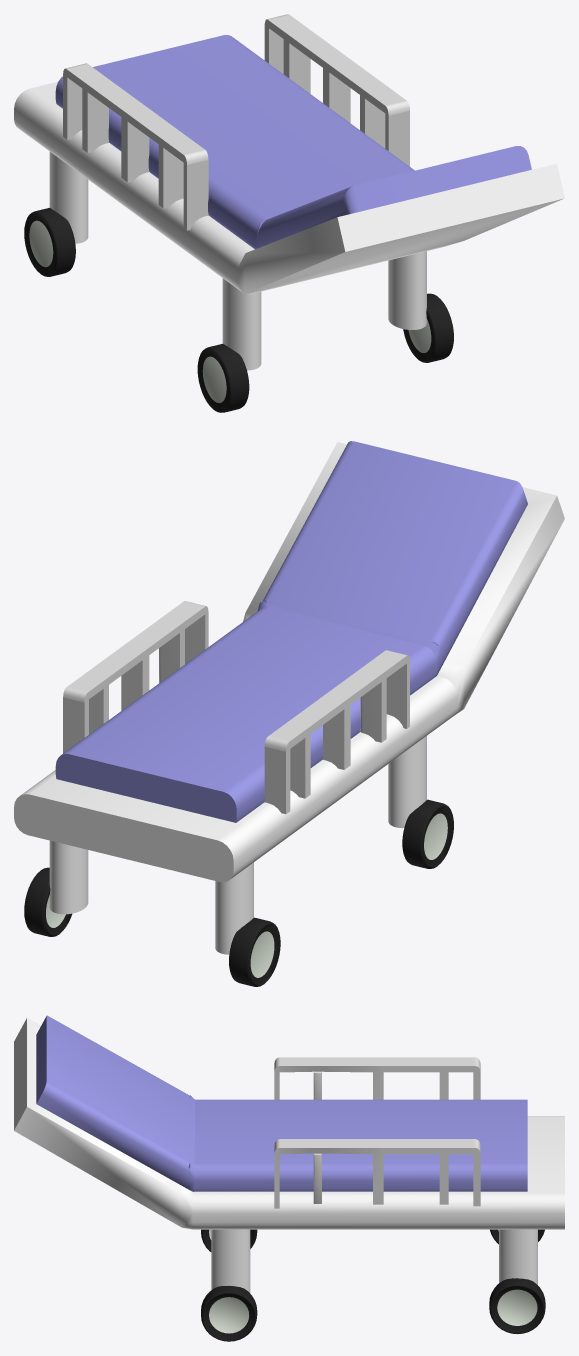
Rendered from Hospital_Bed.fbx.
The picture shows the model from 3 angles, top to bottom: view 1: azimuth 30°, elevation 25°; view 2: azimuth 150°, elevation 25°; view 3: azimuth 270°, elevation 25°; orthographic projection. The views are drawn at different scales.
Parts seen in each view (by area): view 1: Bed, BedFrame, Cube.001, Cube, Feet, Wheels; view 2: Bed, BedFrame, Cube.001, Cube, Feet, Wheels; view 3: Bed, BedFrame, Wheels, Cube, Cube.001, Feet.
Boxes of the visible parts, x1=… form: Bed: x1=55, y1=35, x2=531, y2=249; BedFrame: x1=14, y1=81, x2=564, y2=294; Cube.001: x1=63, y1=63, x2=208, y2=230; Cube: x1=264, y1=14, x2=409, y2=166; Feet: x1=49, y1=152, x2=426, y2=370; Wheels: x1=24, y1=207, x2=453, y2=412; Bed: x1=55, y1=441, x2=527, y2=822; BedFrame: x1=14, y1=442, x2=564, y2=882; Cube.001: x1=264, y1=650, x2=409, y2=814; Cube: x1=63, y1=601, x2=208, y2=753; Feet: x1=49, y1=736, x2=426, y2=954; Wheels: x1=24, y1=799, x2=453, y2=986; Bed: x1=36, y1=1015, x2=527, y2=1191; BedFrame: x1=14, y1=1018, x2=564, y2=1229; Wheels: x1=201, y1=1229, x2=545, y2=1341; Cube: x1=274, y1=1139, x2=480, y2=1208; Cube.001: x1=274, y1=1057, x2=480, y2=1099; Feet: x1=211, y1=1229, x2=537, y2=1292.
Bounding box in the file's own units: 205 × 260 × 523.
